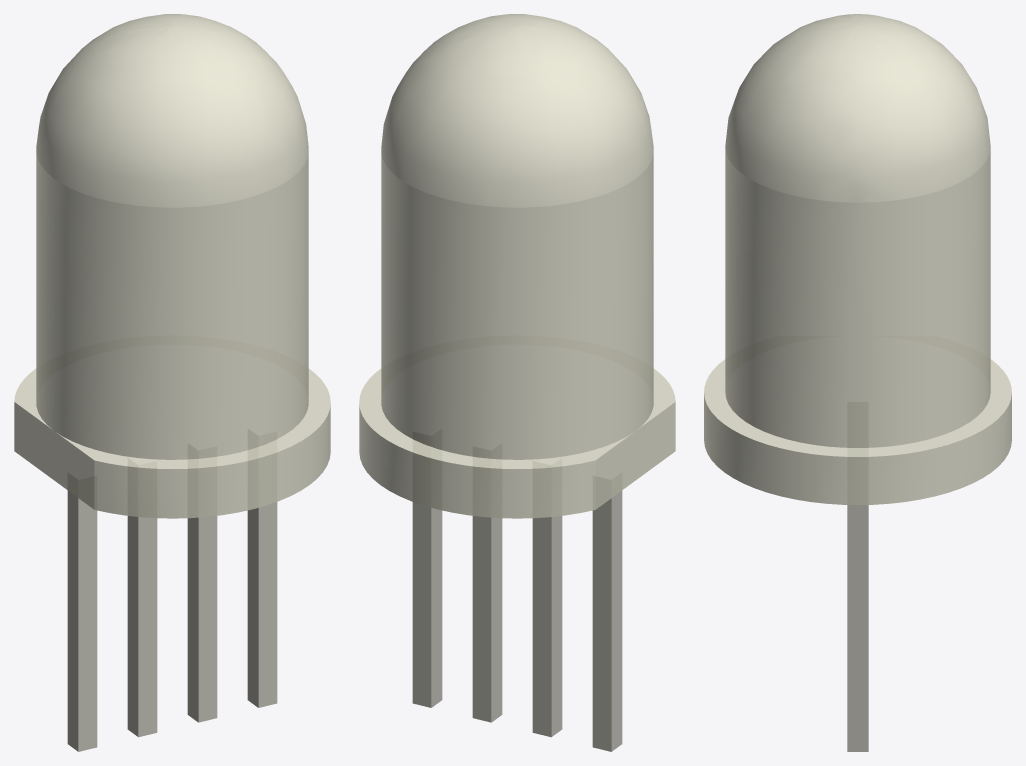
The model's file is led-rgb-5mm.glb.
3 views of the same model, side by side, from view 1: azimuth 30°, elevation 25°; view 2: azimuth 150°, elevation 25°; view 3: azimuth 270°, elevation 25° (orthographic). The views are drawn at different scales.
Visible parts, largest first — view 1: led-rgb-5mm; view 2: led-rgb-5mm; view 3: led-rgb-5mm.
Boxes of the visible parts, left/top/right/bottom form: led-rgb-5mm: left=14, top=14, right=330, bottom=751; led-rgb-5mm: left=359, top=14, right=675, bottom=751; led-rgb-5mm: left=704, top=14, right=1011, bottom=751.
Bounding box in the file's own units: 5.4 × 14.1 × 5.8.
